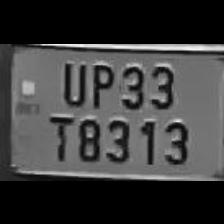1: (133, 114, 159, 164)
3: (158, 114, 190, 164), (114, 60, 146, 108), (102, 114, 132, 164), (146, 61, 176, 108)
8: (72, 114, 102, 162)
P: (86, 58, 114, 108)
T: (43, 110, 74, 162)
U: (55, 56, 86, 106)
